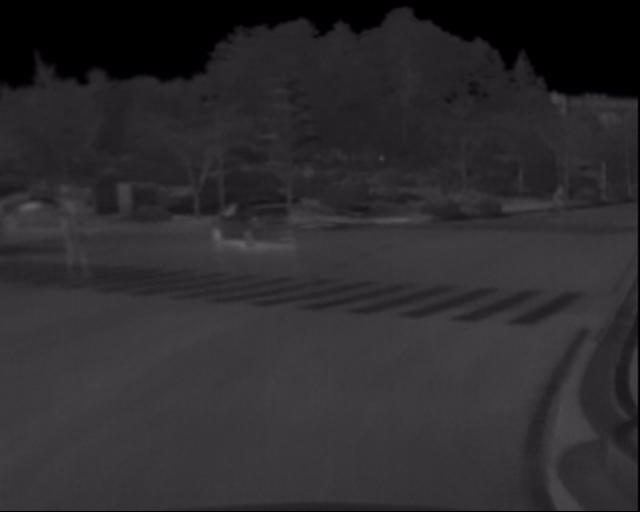person: (40, 201, 87, 297), (550, 176, 573, 221)
